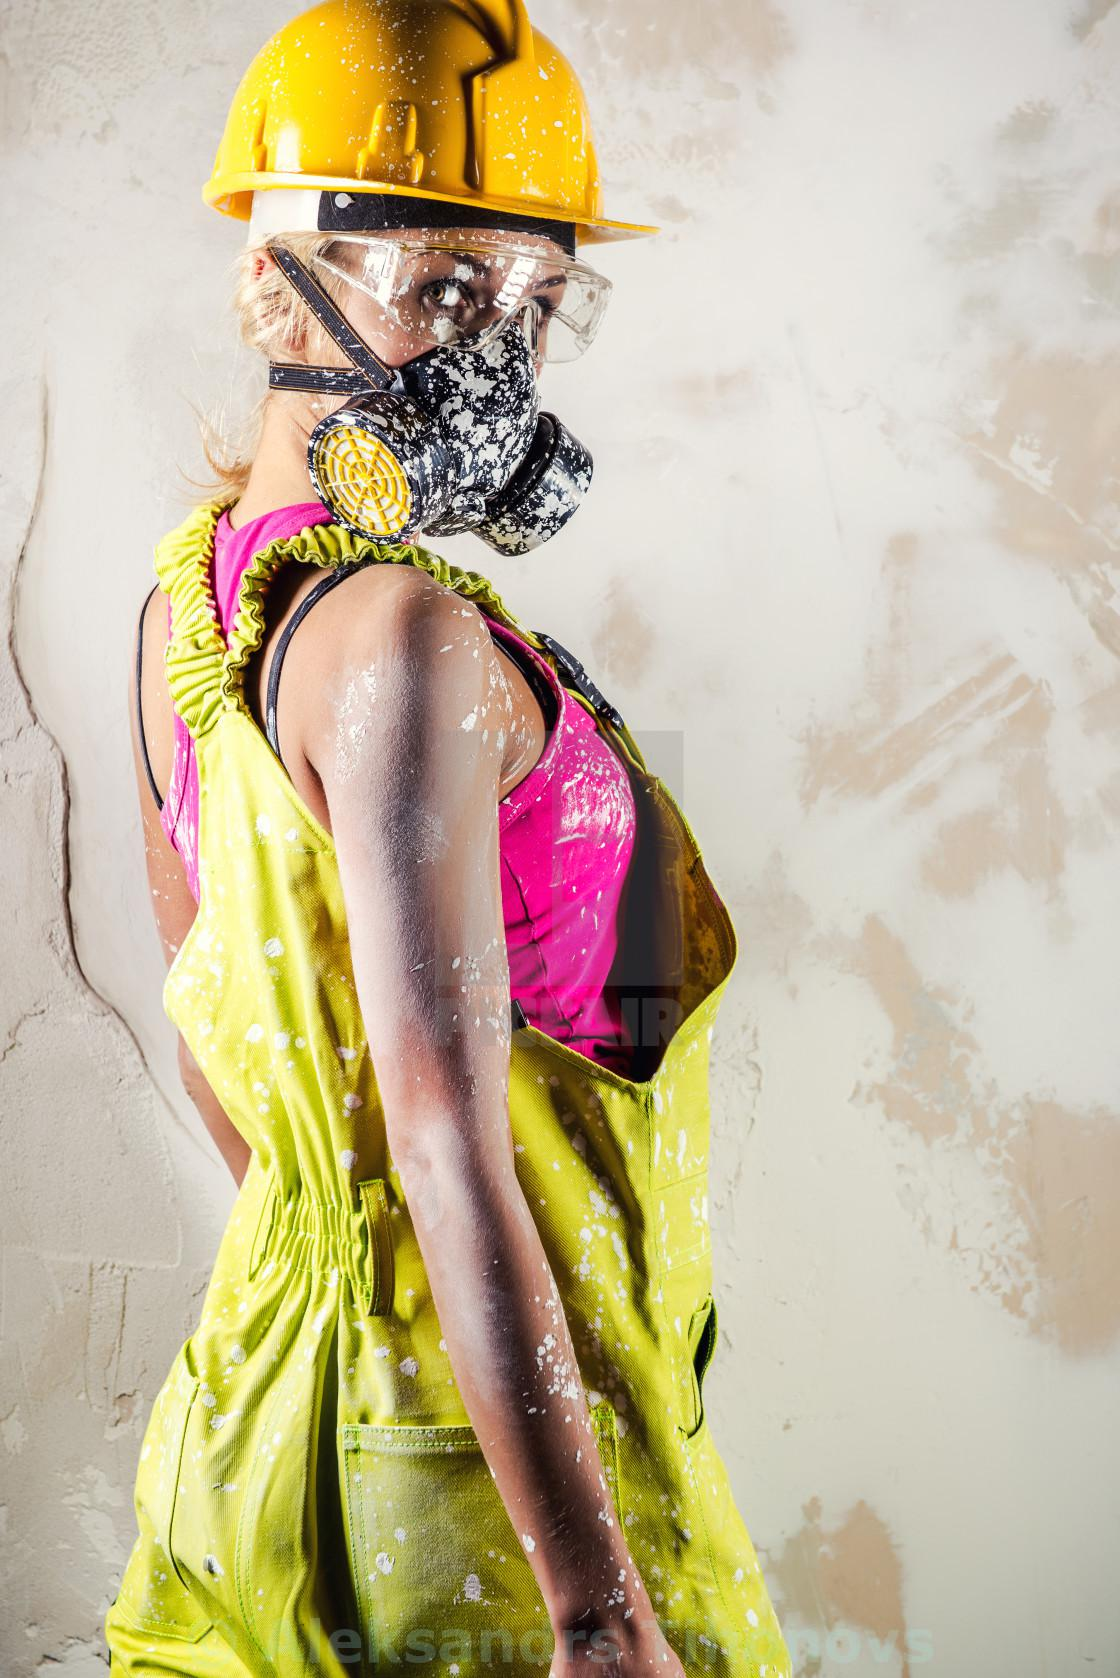hardhat: (204, 4, 661, 256)
worker: (106, 1, 794, 1675)
